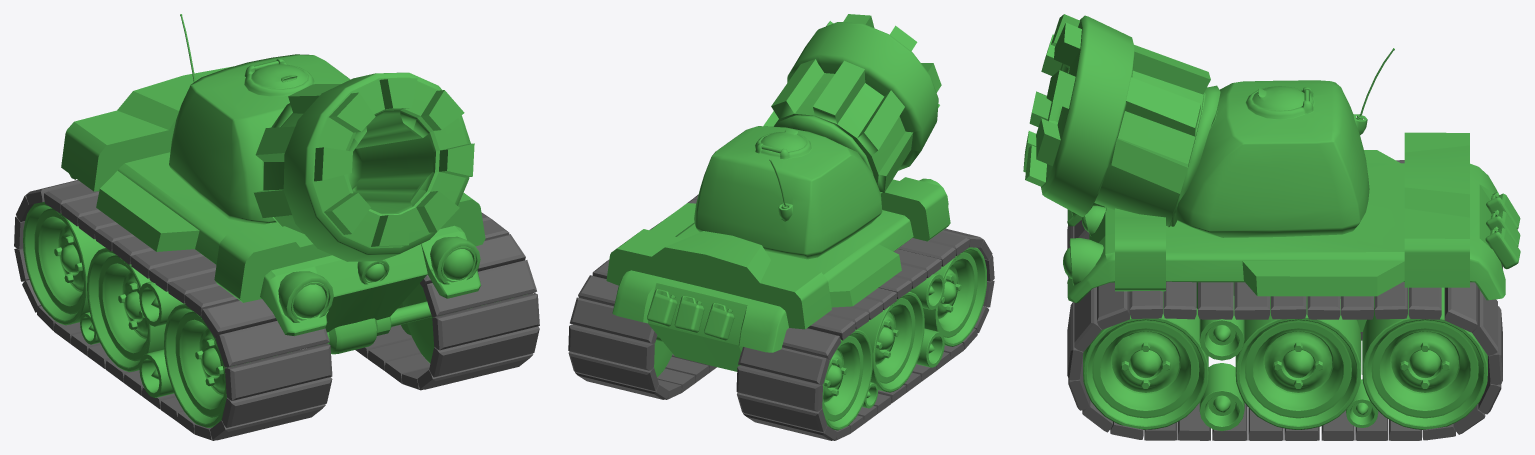
Rendered from Tank_Heavy_Model.glb.
The picture shows the model from 3 angles, left to right: view 1: azimuth 30°, elevation 25°; view 2: azimuth 150°, elevation 25°; view 3: azimuth 270°, elevation 25°; orthographic projection. The views are drawn at different scales.
Parts seen in each view (by area): view 1: TankHeavyChassis, TankHeavyTurret, TankHeavyTracksRight, TankHeavyTracksLeft; view 2: TankHeavyChassis, TankHeavyTurret, TankHeavyTracksRight, TankHeavyTracksLeft; view 3: TankHeavyChassis, TankHeavyTurret, TankHeavyTracksLeft.
Part boxes in pixels (box(x1,y1,x2,y2)): TankHeavyChassis: box(23, 66, 485, 427); TankHeavyTurret: box(169, 14, 474, 261); TankHeavyTracksRight: box(14, 180, 332, 440); TankHeavyTracksLeft: box(355, 212, 539, 390); TankHeavyChassis: box(606, 177, 986, 430); TankHeavyTurret: box(694, 14, 941, 259); TankHeavyTracksRight: box(736, 228, 994, 440); TankHeavyTracksLeft: box(568, 194, 716, 399); TankHeavyChassis: box(1063, 132, 1520, 430); TankHeavyTurret: box(1023, 14, 1394, 237); TankHeavyTracksLeft: box(1067, 281, 1502, 440).
Bounding box in the file's own units: 3.59 × 3.8 × 4.96.
